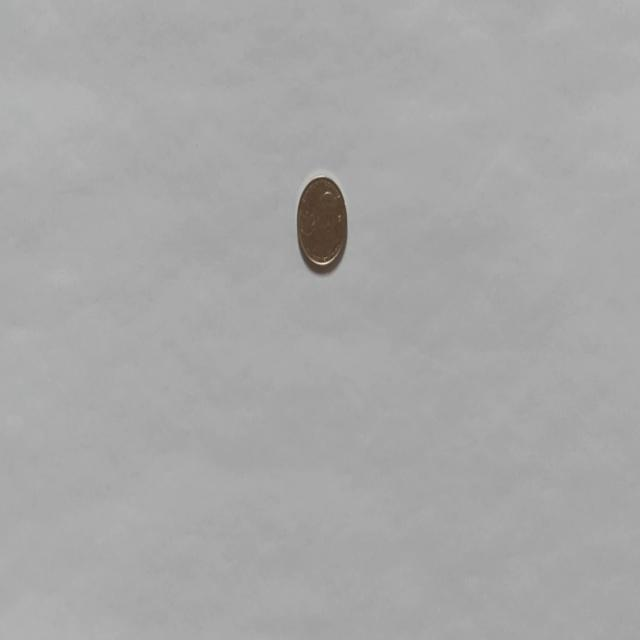seribu rupiah koin: (295, 172, 348, 270)
